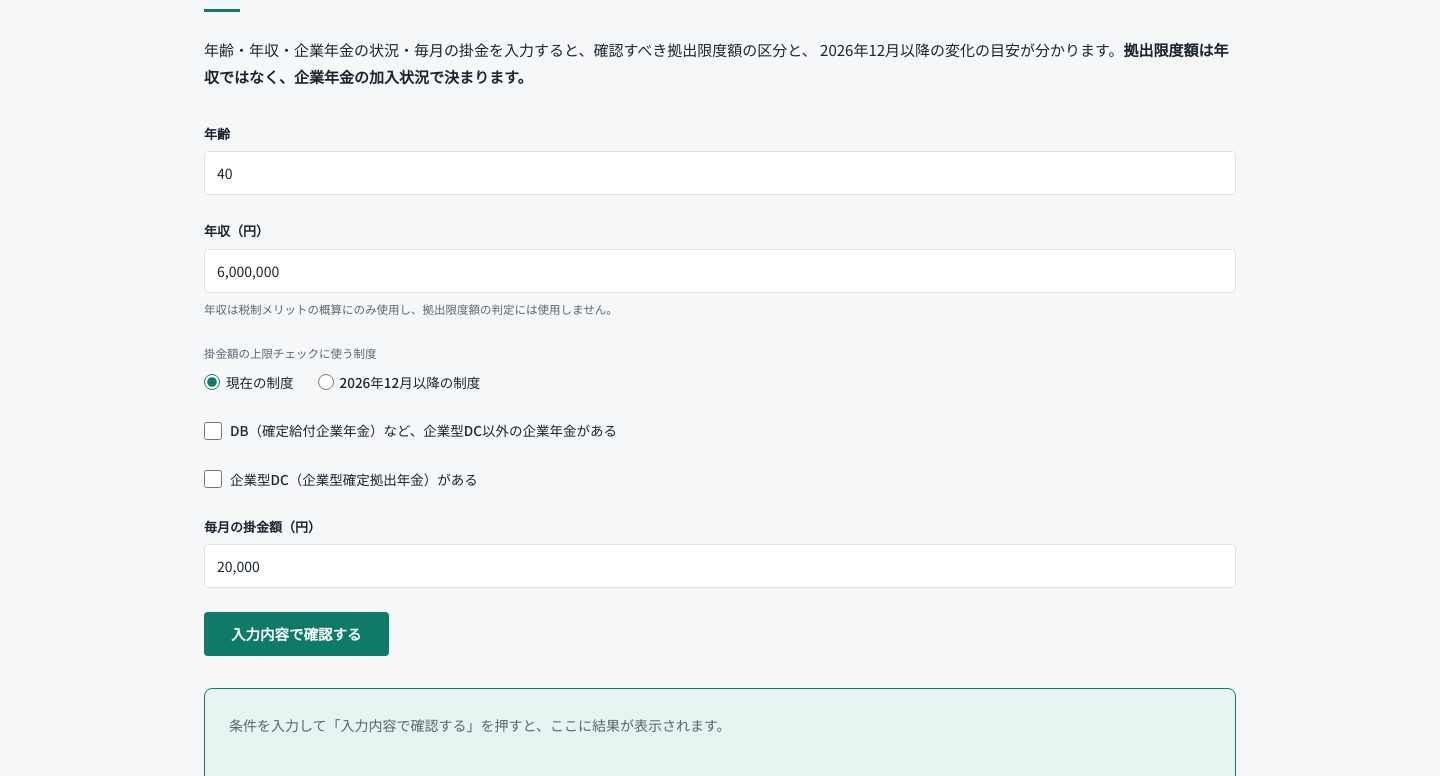
Scenario: SimulatorSection › 企業型DCありにチェックし、掛金を変更して送信すると、企業年金あり区分の結果になる
Click the checkbox labelled "企業型DC（企業型確定拠出年金）がある".
click(213, 479)  # box [204, 470, 222, 488]
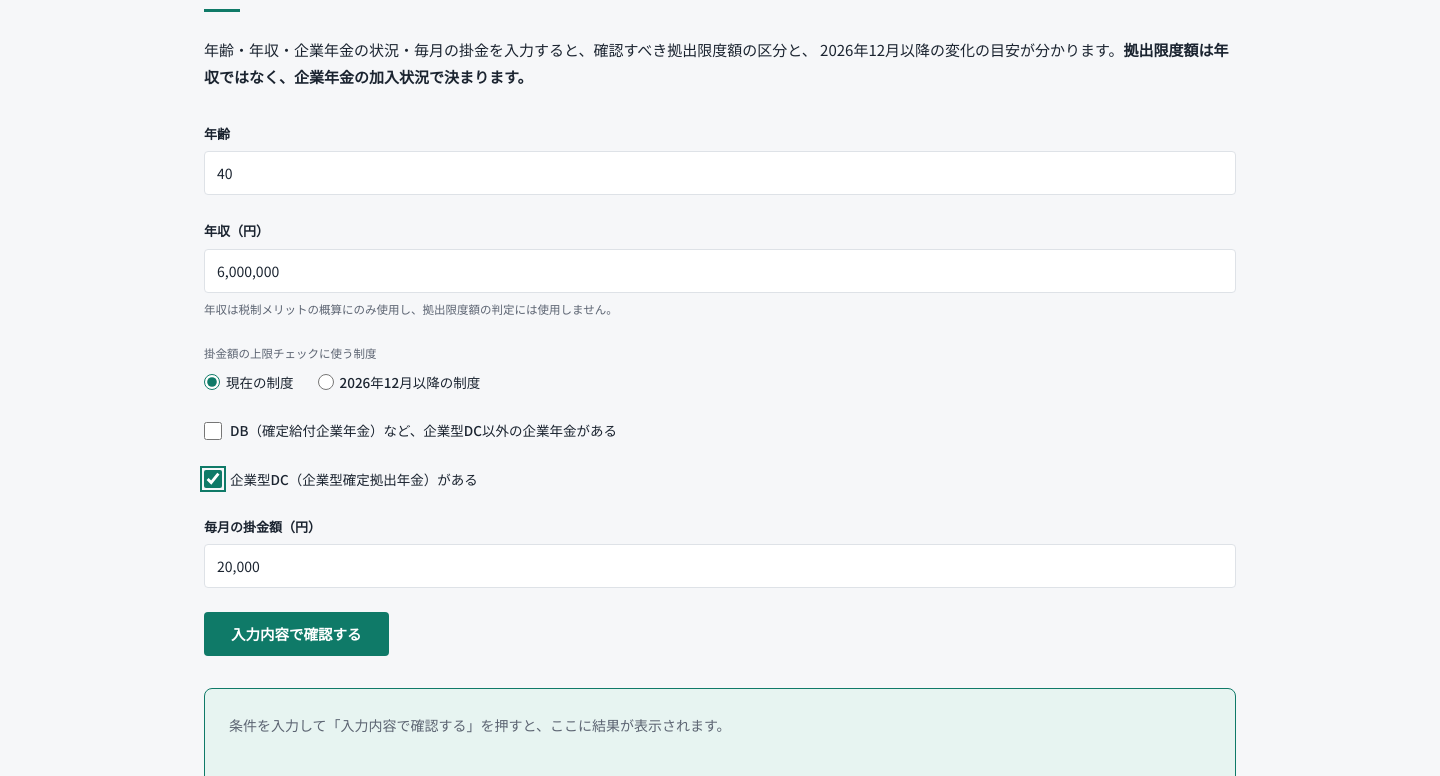
Replace the text in the field labelled "毎月の掛金額（円）" with "12000" at coordinates (720, 566), box [204, 544, 1236, 588]
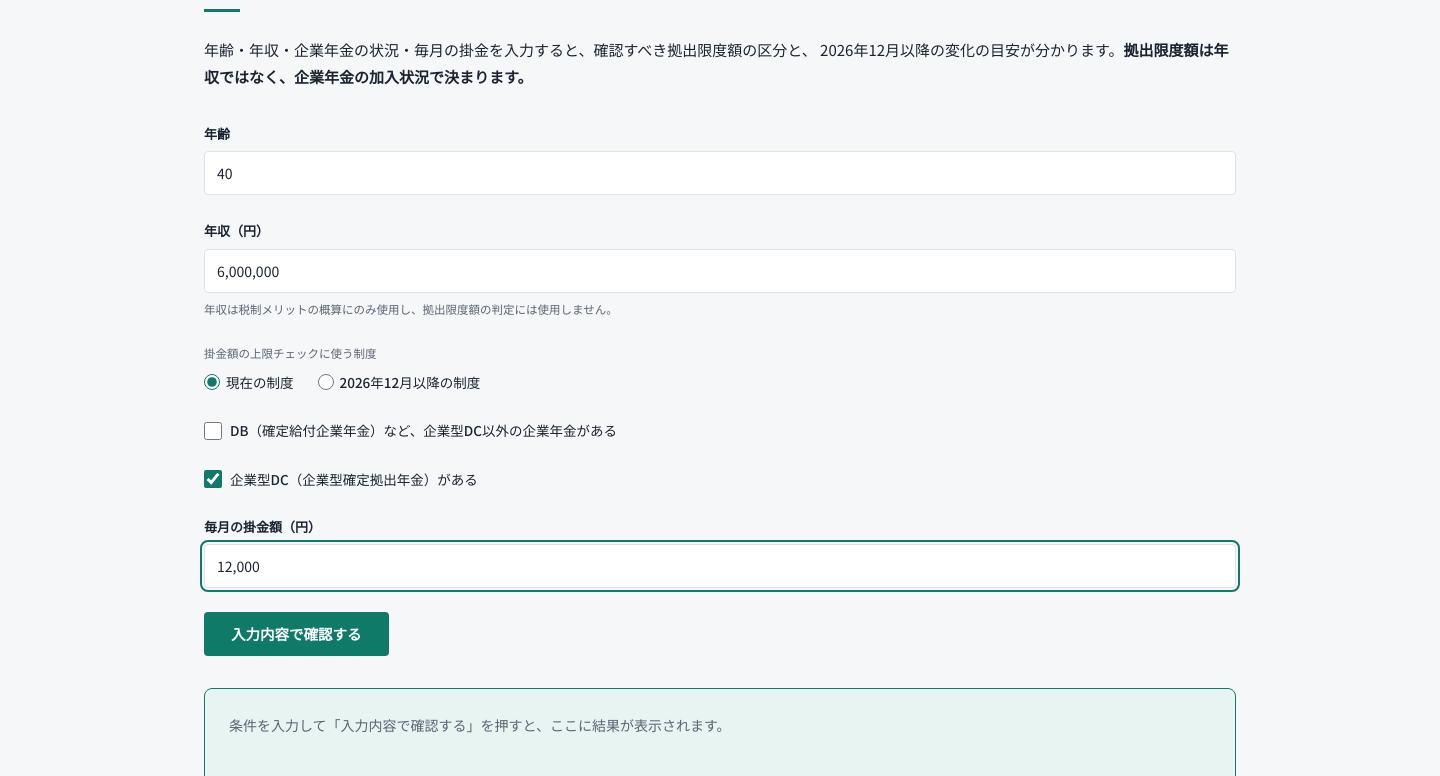
Click the button "入力内容で確認する".
click(296, 634)  # box [204, 612, 388, 656]
(page scrolled)
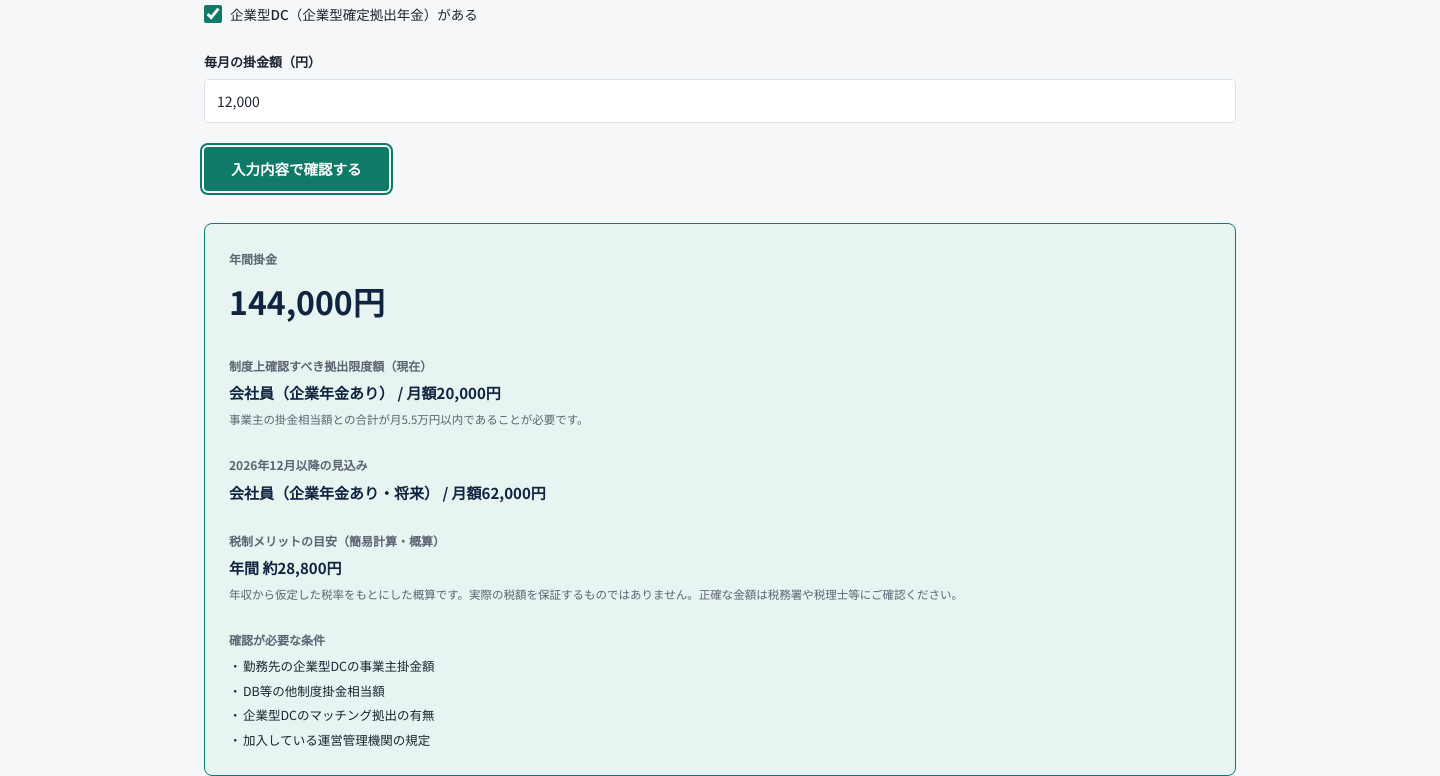
Result: the text "144,000円" is shown at [229, 278, 385, 324]
Result: the text "会社員（企業年金あり） / 月額20,000円" is shown at [229, 382, 501, 403]
Result: the text "事業主の掛金相当額との合計が月5.5万円以内であることが必要です。" is shown at [229, 411, 589, 427]
